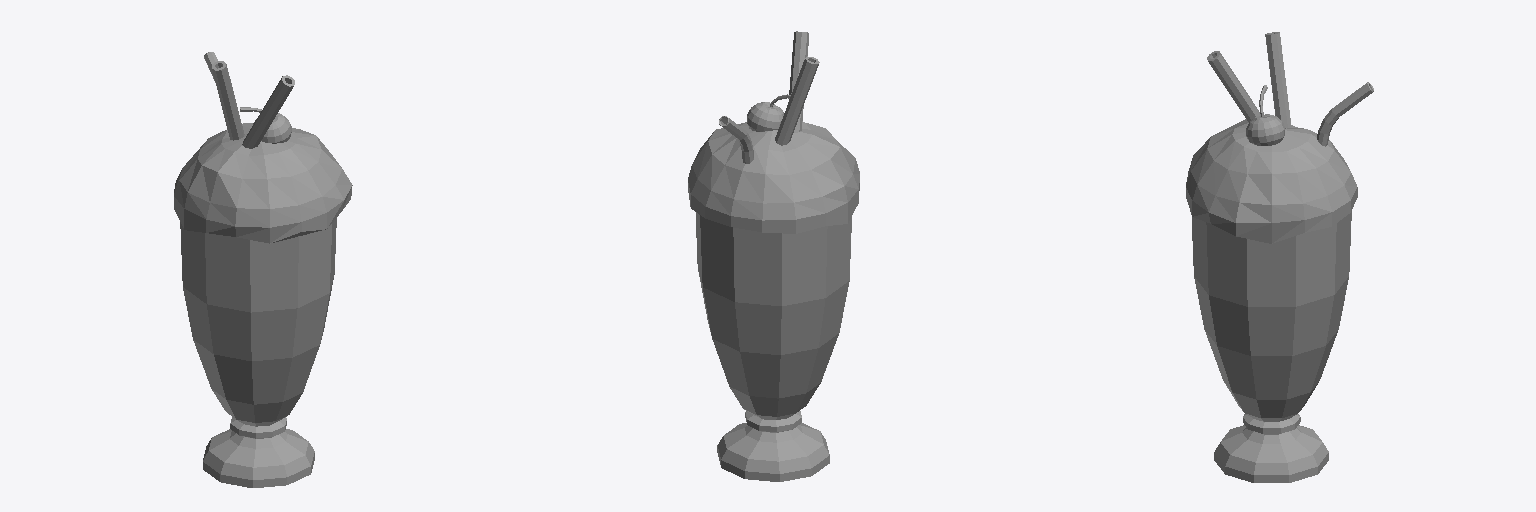
File: milkshake.obj
The picture shows the model from 3 angles: view 1: azimuth 30°, elevation 25°; view 2: azimuth 150°, elevation 25°; view 3: azimuth 270°, elevation 25°; orthographic projection.
Parts seen in each view (by area): view 1: milkshake_Circle.005; view 2: milkshake_Circle.005; view 3: milkshake_Circle.005.
Part boxes in pixels (bbox=[...]): milkshake_Circle.005: bbox=[174, 52, 352, 487]; milkshake_Circle.005: bbox=[688, 31, 859, 481]; milkshake_Circle.005: bbox=[1186, 32, 1373, 482].
Size of the model in its own units: 7.64 by 19.73 by 8.23.